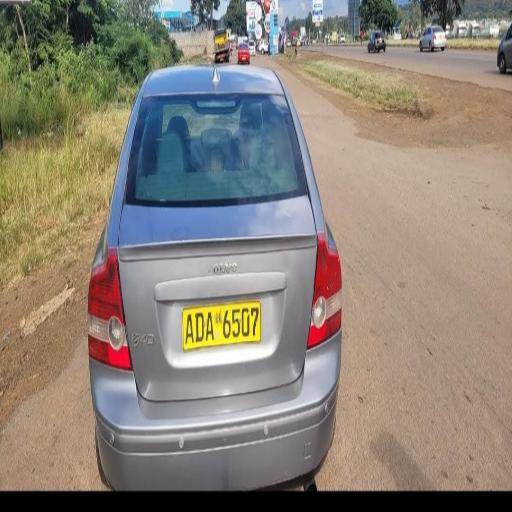number-plates: (182, 305, 262, 343)
